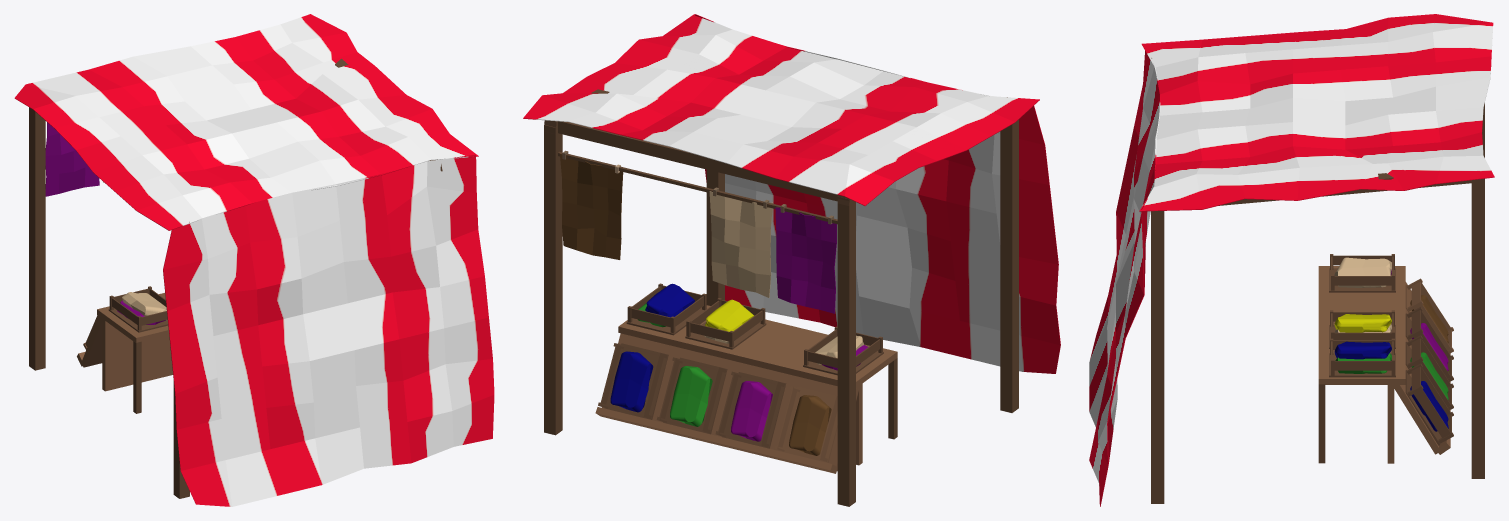
The model's file is MarktKraampie.fbx.
3 views of the same model, side by side, from view 1: azimuth 30°, elevation 25°; view 2: azimuth 150°, elevation 25°; view 3: azimuth 270°, elevation 25° (orthographic). The views are drawn at different scales.
Visible parts, largest first — view 1: Plane.001, Cube.014, Cube.015, Plane.002, Cube.028, Cube.044; view 2: Plane.001, Cube.015, Cube.014, Cube.028, Plane.003, Plane.002, Plane.004, Cube.046, Cube.047, Cube.049, Cube.048, Cube.037 (+1 smaller); view 3: Plane.001, Cube.015, Cube.028, Cube.014, Cube.044, Cube.039, Cube.037, Cube.046.
Part boxes in pixels (x1=…): Plane.001: x1=14, y1=14, x2=494, y2=506; Cube.014: x1=77, y1=293, x2=172, y2=413; Cube.015: x1=29, y1=58, x2=442, y2=498; Plane.002: x1=45, y1=122, x2=99, y2=196; Cube.028: x1=83, y1=286, x2=168, y2=349; Cube.044: x1=122, y1=292, x2=167, y2=320; Plane.001: x1=523, y1=14, x2=1060, y2=373; Cube.015: x1=544, y1=89, x2=1018, y2=506; Cube.014: x1=595, y1=305, x2=897, y2=473; Cube.028: x1=598, y1=283, x2=883, y2=462; Plane.003: x1=560, y1=153, x2=623, y2=259; Plane.002: x1=775, y1=207, x2=836, y2=313; Plane.004: x1=709, y1=191, x2=773, y2=297; Cube.046: x1=610, y1=351, x2=653, y2=412; Cube.047: x1=670, y1=366, x2=712, y2=426; Cube.049: x1=789, y1=395, x2=831, y2=455; Cube.048: x1=731, y1=381, x2=772, y2=441; Cube.037: x1=645, y1=283, x2=694, y2=317; Plane.001: x1=1089, y1=14, x2=1494, y2=506; Cube.015: x1=1151, y1=58, x2=1484, y2=503; Cube.028: x1=1329, y1=254, x2=1453, y2=445; Cube.014: x1=1318, y1=266, x2=1450, y2=463; Cube.044: x1=1334, y1=257, x2=1391, y2=287; Cube.039: x1=1334, y1=314, x2=1391, y2=332; Cube.037: x1=1334, y1=341, x2=1391, y2=359; Cube.046: x1=1410, y1=381, x2=1448, y2=431.
Bounding box in the file's own units: 1207 × 1113 × 1212.
Materials: 30 (15 with a texture image).
